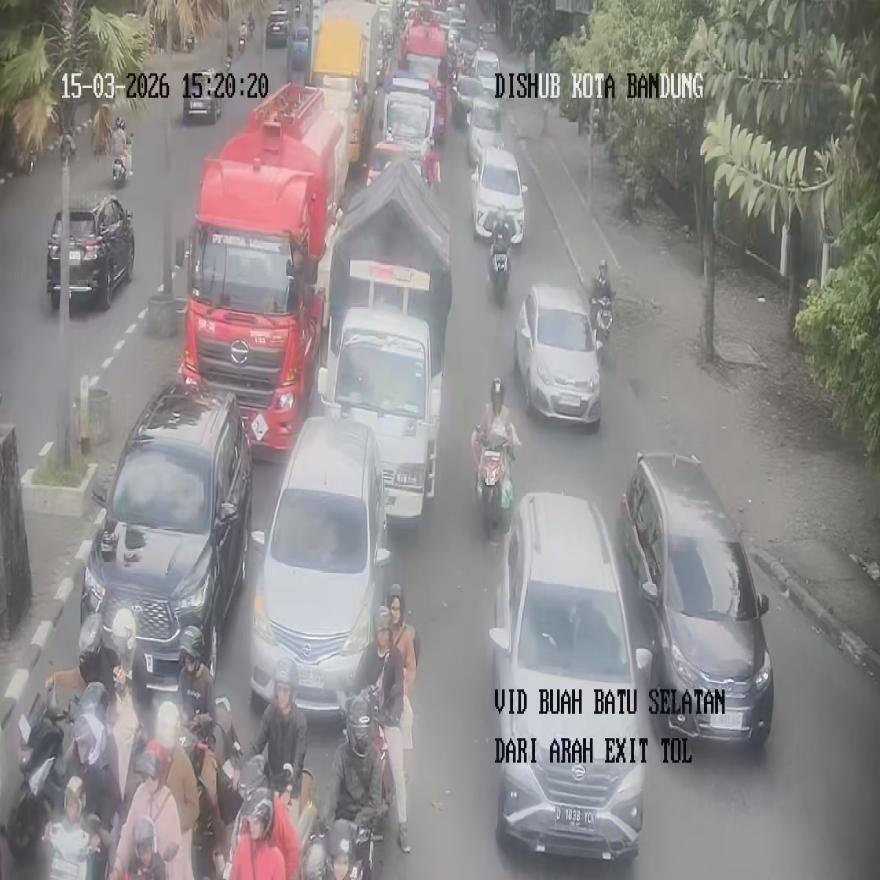Mobil: (489, 491, 652, 860), (80, 376, 252, 698), (617, 452, 773, 749), (250, 418, 390, 715), (514, 282, 602, 430), (471, 147, 527, 243)
Motor: (5, 690, 72, 862), (181, 697, 241, 879), (337, 686, 394, 827), (181, 731, 222, 879), (45, 779, 100, 879), (476, 425, 513, 539), (221, 792, 246, 879), (345, 827, 382, 879), (350, 828, 381, 879), (592, 296, 612, 362), (491, 251, 508, 305), (112, 156, 127, 189), (112, 157, 127, 188), (26, 147, 36, 175), (186, 35, 195, 53), (249, 15, 255, 37), (239, 35, 246, 53), (226, 52, 232, 72), (295, 0, 301, 18)
Truk berat: (182, 83, 346, 453)
Truk menengah: (318, 159, 452, 523)
